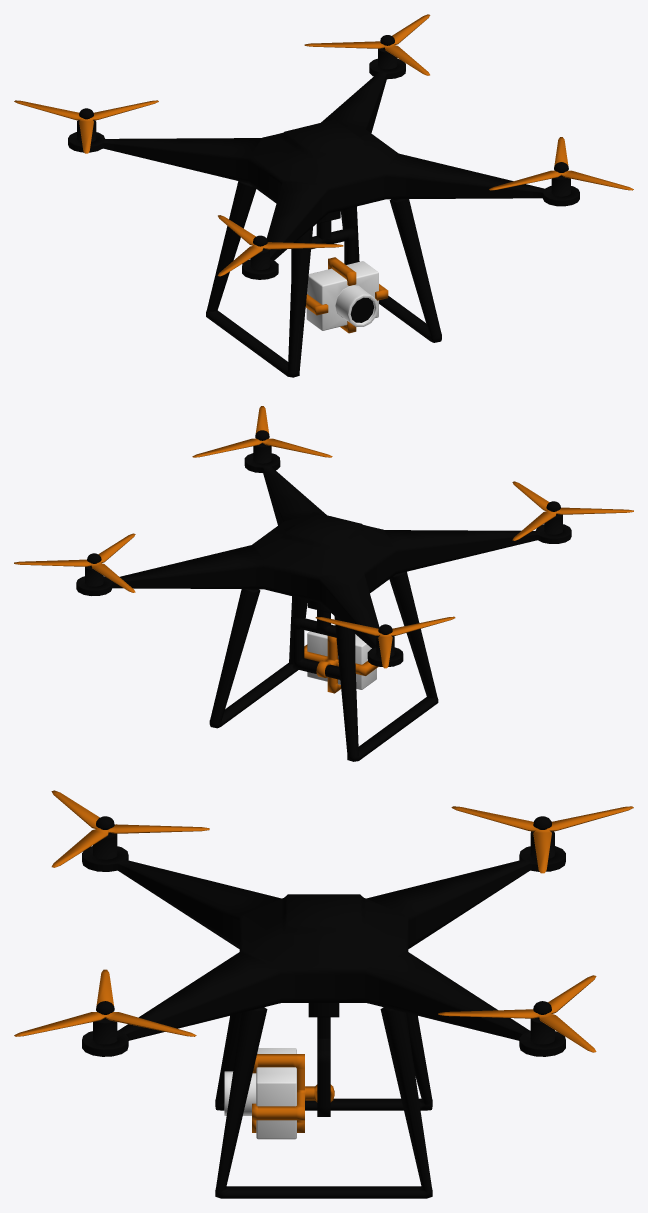
File: drone.fbx
3 views of the same model, one above another, from view 1: azimuth 30°, elevation 25°; view 2: azimuth 150°, elevation 25°; view 3: azimuth 270°, elevation 25° (orthographic). The views are drawn at different scales.
Parts seen in each view (by area): view 1: Cube, Cube.001, Circle.001, Circle, Circle.002, Circle.003, Torus; view 2: Cube, Cube.001, Circle.001, Circle.002, Circle, Circle.003, Torus; view 3: Cube, Cube.001, Torus, Circle.001, Circle, Circle.002, Circle.003.
Part boxes in pixels (box(x1,y1,x2,y2)): Cube: box(68, 35, 579, 377); Cube.001: box(306, 261, 378, 330); Circle.001: box(14, 100, 158, 153); Circle: box(304, 14, 430, 75); Circle.002: box(217, 215, 343, 276); Circle.003: box(489, 137, 633, 190); Torus: box(305, 257, 388, 333); Cube: box(76, 430, 571, 761); Cube.001: box(307, 624, 376, 689); Circle.001: box(315, 616, 455, 668); Circle.002: box(512, 481, 633, 540); Circle: box(14, 533, 135, 592); Circle.003: box(192, 406, 332, 457); Torus: box(304, 636, 378, 693); Cube: box(82, 816, 565, 1198); Cube.001: box(224, 1048, 296, 1139); Torus: box(252, 1054, 334, 1132); Circle.001: box(451, 806, 633, 873); Circle: box(438, 975, 596, 1052); Circle.002: box(51, 790, 209, 867); Circle.003: box(14, 969, 196, 1036).
Bounding box in the file's own units: 736 × 316 × 736.
